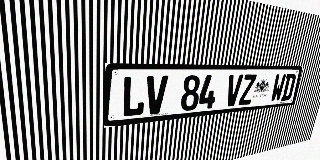4: (198, 75, 218, 110)
8: (180, 75, 202, 111)
D: (281, 74, 297, 101)
L: (121, 76, 146, 118)
V: (145, 75, 168, 115), (224, 74, 243, 107)
W: (270, 74, 286, 102)
Z: (238, 74, 257, 105)
